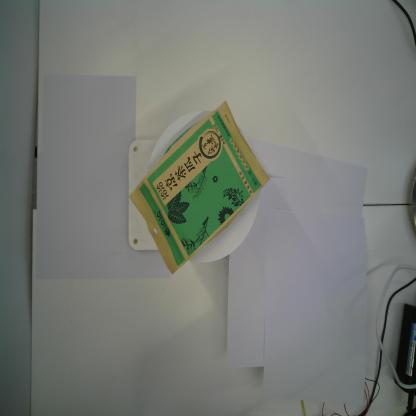Dried Food: (127, 99, 271, 276)
